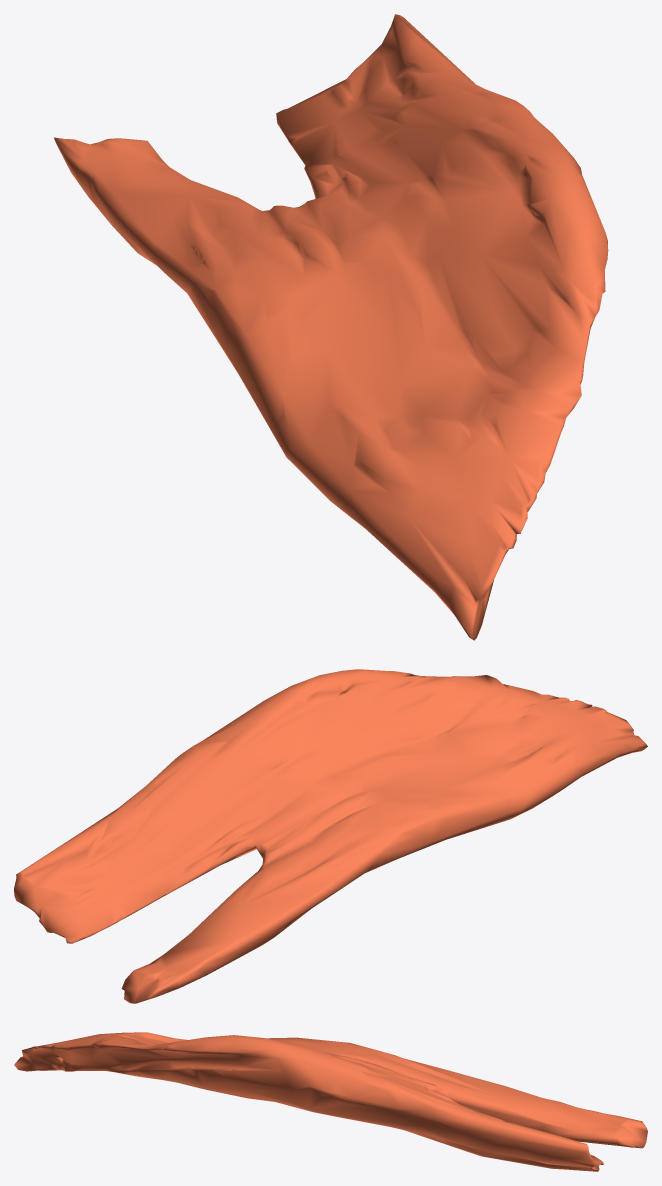
Rendered from Quadratus_plantae_muscle.r_Generated_Mesh_From_X3D.253.glb.
The picture shows the model from 3 angles, top to bottom: view 1: azimuth 30°, elevation 25°; view 2: azimuth 150°, elevation 25°; view 3: azimuth 270°, elevation 25°; orthographic projection. The views are drawn at different scales.
Parts seen in each view (by area): view 1: Quadratus_plantae_muscle.r_Generated_Mesh_From_X3D.253; view 2: Quadratus_plantae_muscle.r_Generated_Mesh_From_X3D.253; view 3: Quadratus_plantae_muscle.r_Generated_Mesh_From_X3D.253.
Part boxes in pixels (bbox=[...]): Quadratus_plantae_muscle.r_Generated_Mesh_From_X3D.253: bbox=[54, 14, 608, 640]; Quadratus_plantae_muscle.r_Generated_Mesh_From_X3D.253: bbox=[14, 669, 647, 1003]; Quadratus_plantae_muscle.r_Generated_Mesh_From_X3D.253: bbox=[14, 1032, 647, 1171].
Bounding box in the file's own units: 0.0356 × 0.017 × 0.0768.
